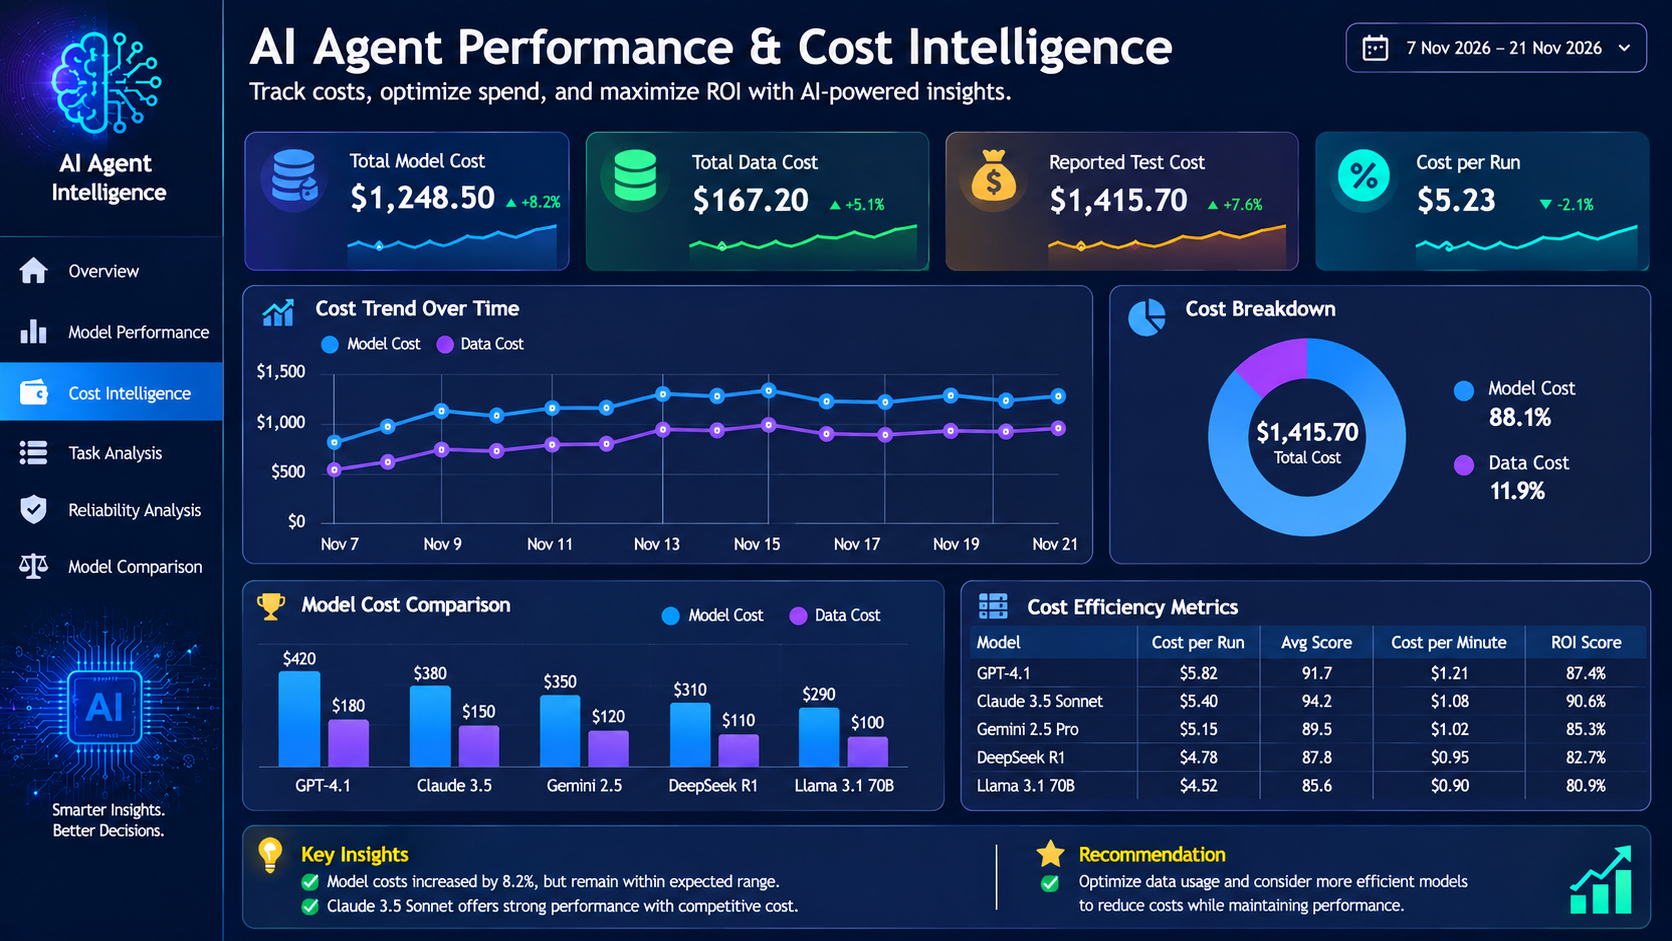

Layout of this report page (visuals, bound fields, positions):
{"tool":"powerbi","page":{"name":"Cost Intelligence","canvas":[1920,1080],"ordinal":2},"visuals":[{"type":"image","box":[10.3,0,1910.1,1080.6],"z":0}]}

Visuals, with their boxes in screenshot pixels (x1, y1, x2, y2), scaled from the page's 1920x1080 canvas onto the 1672x941 screenshot:
image: left=9, top=0, right=1671, bottom=940
